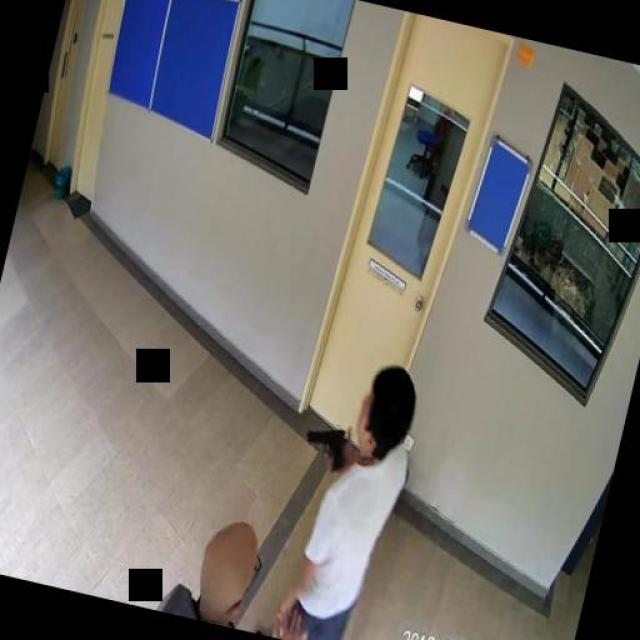gun: (300, 418, 350, 472)
